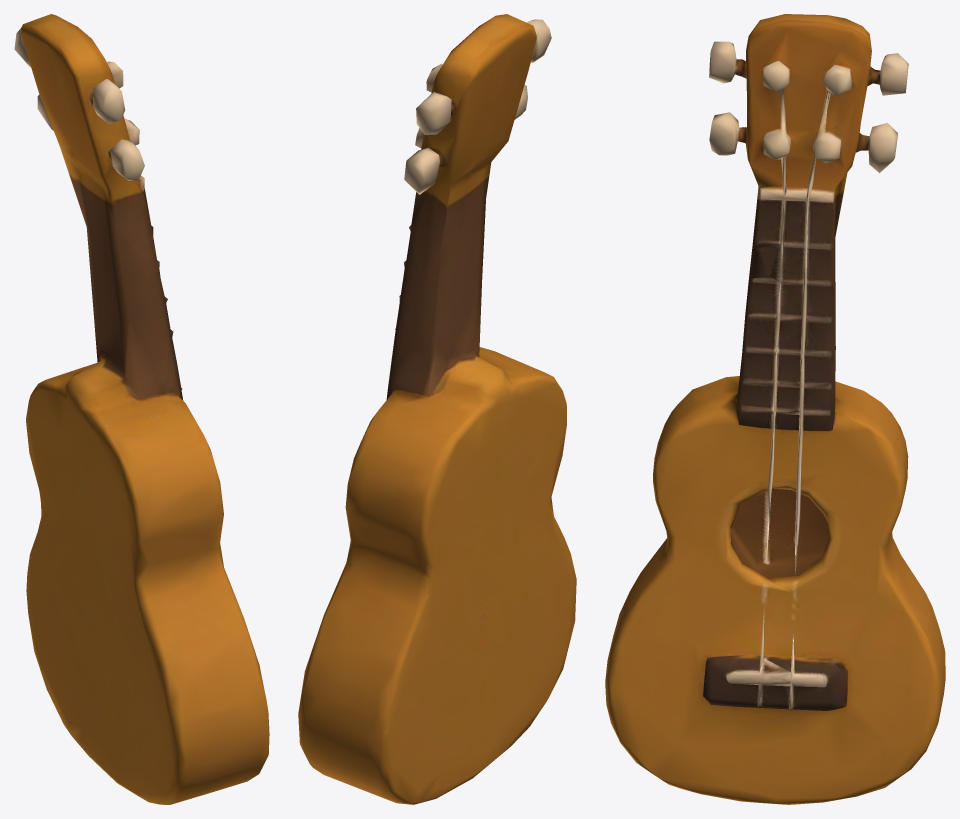
Rendered from ukulele.glb.
The picture shows the model from 3 angles, left to right: view 1: azimuth 30°, elevation 25°; view 2: azimuth 150°, elevation 25°; view 3: azimuth 270°, elevation 25°; orthographic projection. The views are drawn at different scales.
Visible parts, largest first — view 1: tripo_node_4647c2c1-3888-414c-abb0-dd32f0410a7c; view 2: tripo_node_4647c2c1-3888-414c-abb0-dd32f0410a7c; view 3: tripo_node_4647c2c1-3888-414c-abb0-dd32f0410a7c.
Part boxes in pixels (<box>): tripo_node_4647c2c1-3888-414c-abb0-dd32f0410a7c: <box>14,14,269,804</box>; tripo_node_4647c2c1-3888-414c-abb0-dd32f0410a7c: <box>298,14,576,804</box>; tripo_node_4647c2c1-3888-414c-abb0-dd32f0410a7c: <box>605,14,945,804</box>.
Size of the model in its own units: 0.2109 by 1 by 0.4175.
1 material, 1 textured.
